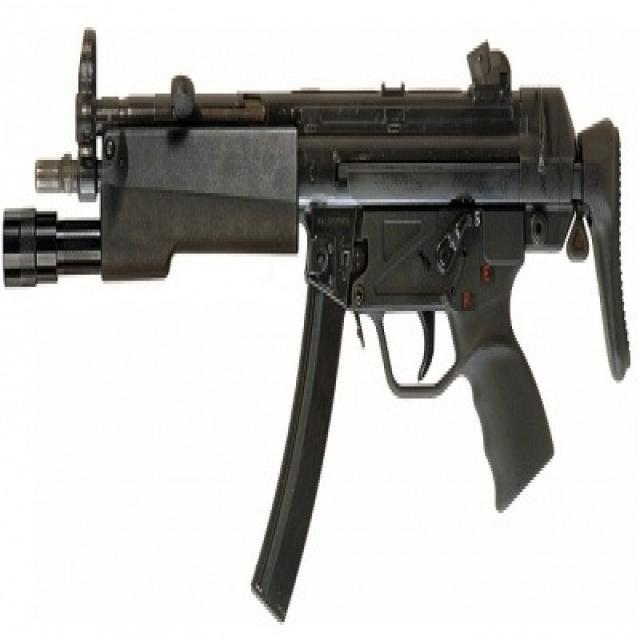weapon: (0, 12, 622, 640)
